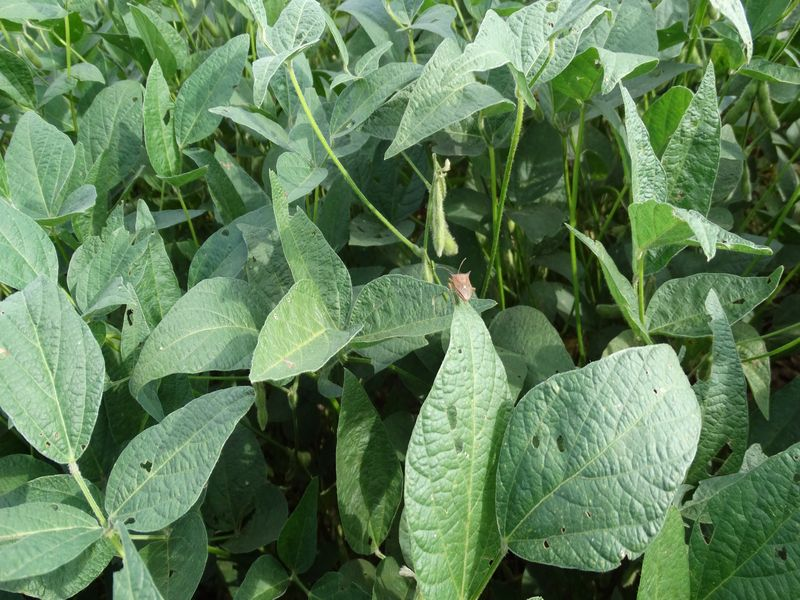Euschistus_heros_adulto: (436, 257, 485, 310)
